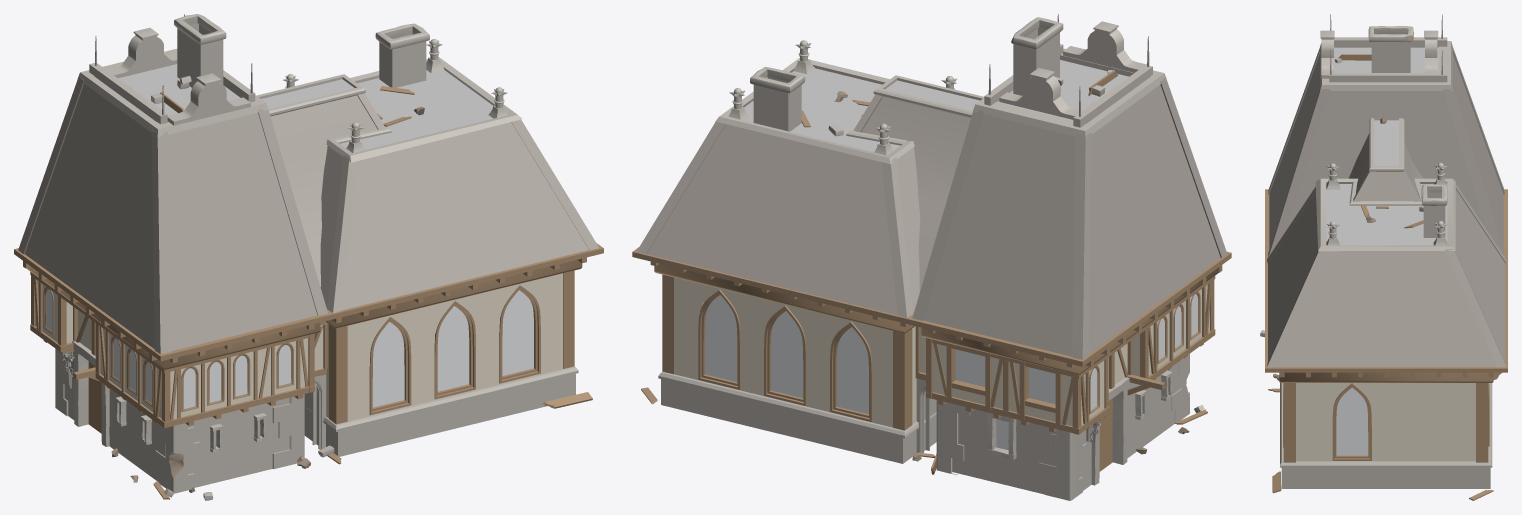
The model's file is kb3d_bldg_sm_c.glb.
The picture shows the model from 3 angles, left to right: view 1: azimuth 30°, elevation 25°; view 2: azimuth 150°, elevation 25°; view 3: azimuth 270°, elevation 25°; orthographic projection. The views are drawn at different scales.
Visible parts, largest first — view 1: EXPORT_kb3d_bldg_sm_c; view 2: EXPORT_kb3d_bldg_sm_c; view 3: EXPORT_kb3d_bldg_sm_c.
Part boxes in pixels (<box>): EXPORT_kb3d_bldg_sm_c: <box>14,14,603,500</box>; EXPORT_kb3d_bldg_sm_c: <box>632,14,1231,500</box>; EXPORT_kb3d_bldg_sm_c: <box>1260,14,1507,500</box>.
Size of the model in its own units: 11.43 by 9.48 by 6.37.
